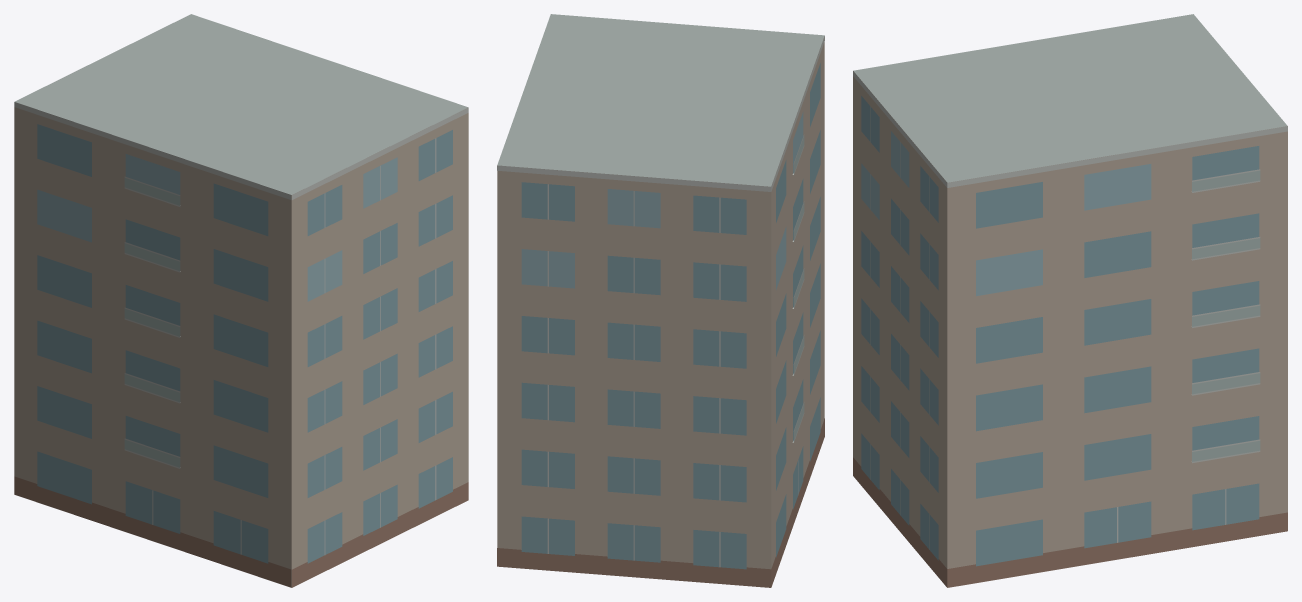
Rendered from survey-upis-32738007.glb.
3 renders of one model, left to right at view 1: azimuth 30°, elevation 25°; view 2: azimuth 150°, elevation 25°; view 3: azimuth 270°, elevation 25°, orthographic. The views are drawn at different scales.
Visible parts, largest first — view 1: survey-upis-32738007.tmp; view 2: survey-upis-32738007.tmp; view 3: survey-upis-32738007.tmp.
Boxes of the visible parts, x1,y1,x2,y2 form: survey-upis-32738007.tmp: (14,14,468,587); survey-upis-32738007.tmp: (497,14,824,587); survey-upis-32738007.tmp: (853,14,1287,587).
Bounding box in the file's own units: 16.35 × 18.3 × 17.8.
